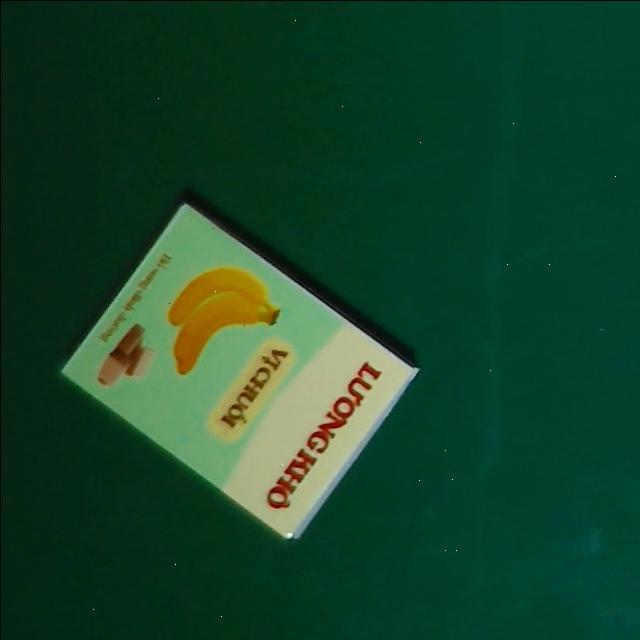chuoi: (56, 197, 421, 546)
